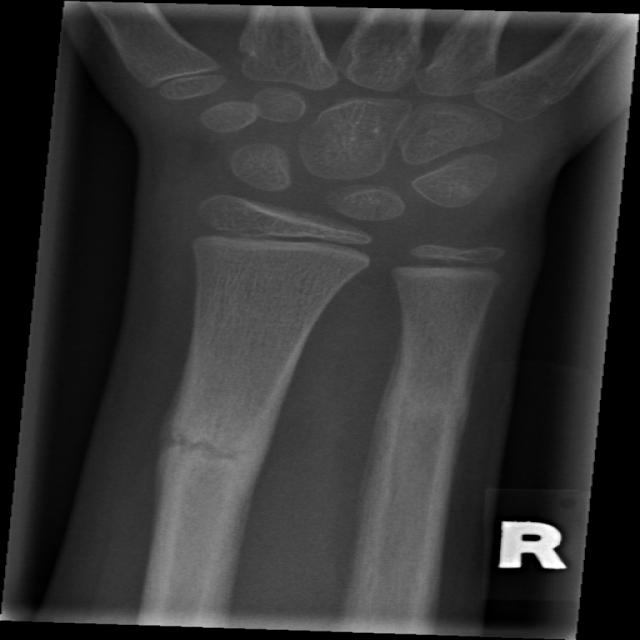radius fracture: (138, 373, 296, 547)
ulna fracture: (364, 361, 498, 528)
